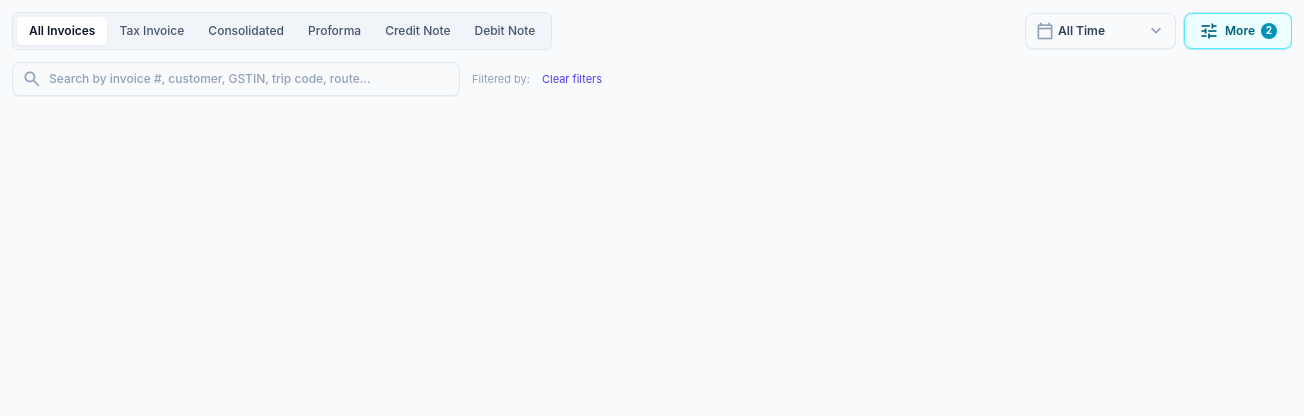
Test: InvoiceToolbar › closes the dropdown after Reset all is clicked
This screenshot has width=1304, height=416.
Click the button with aria-label "More Filters" at (1238, 31), box [1184, 13, 1292, 49]
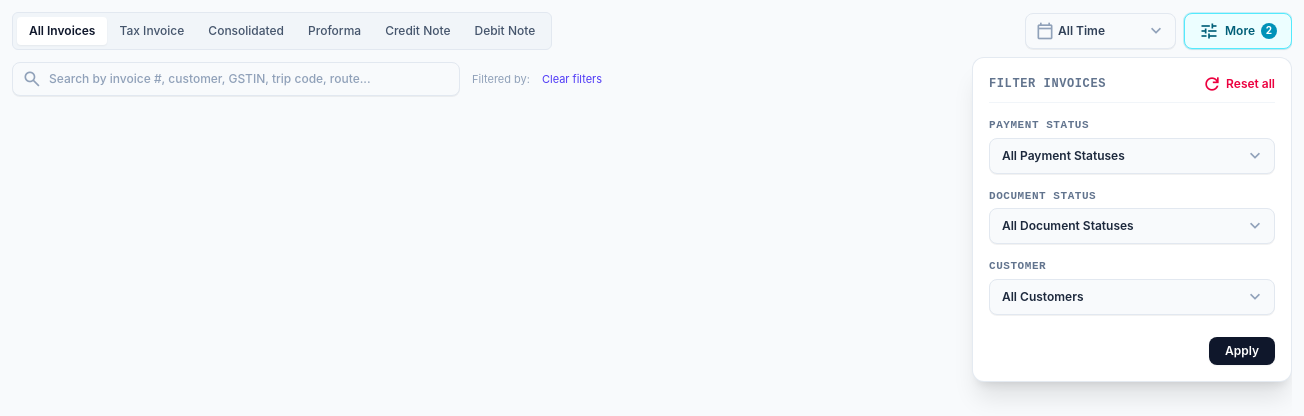
Click the button "Reset all" at (1239, 84), box [1202, 74, 1275, 94]
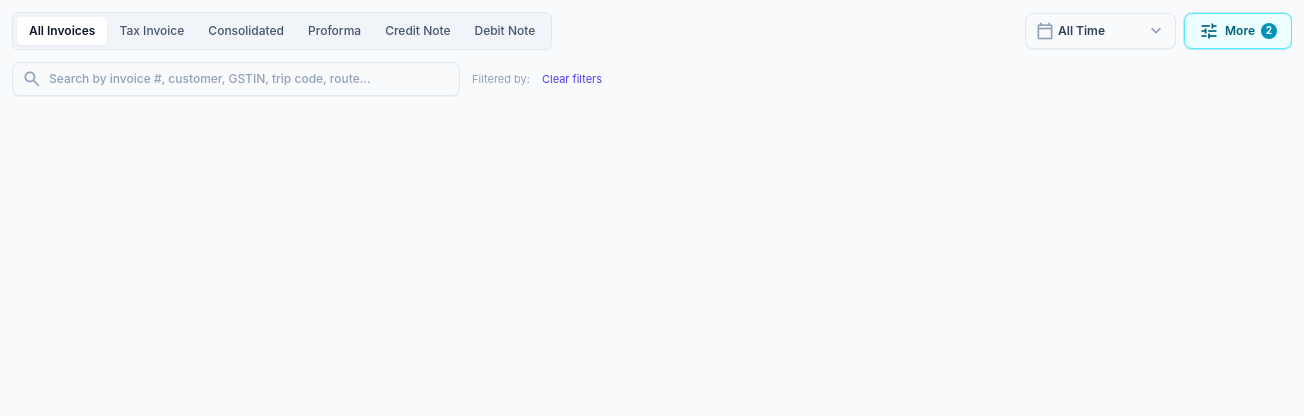
Check: the text "Filter Invoices" is gone
